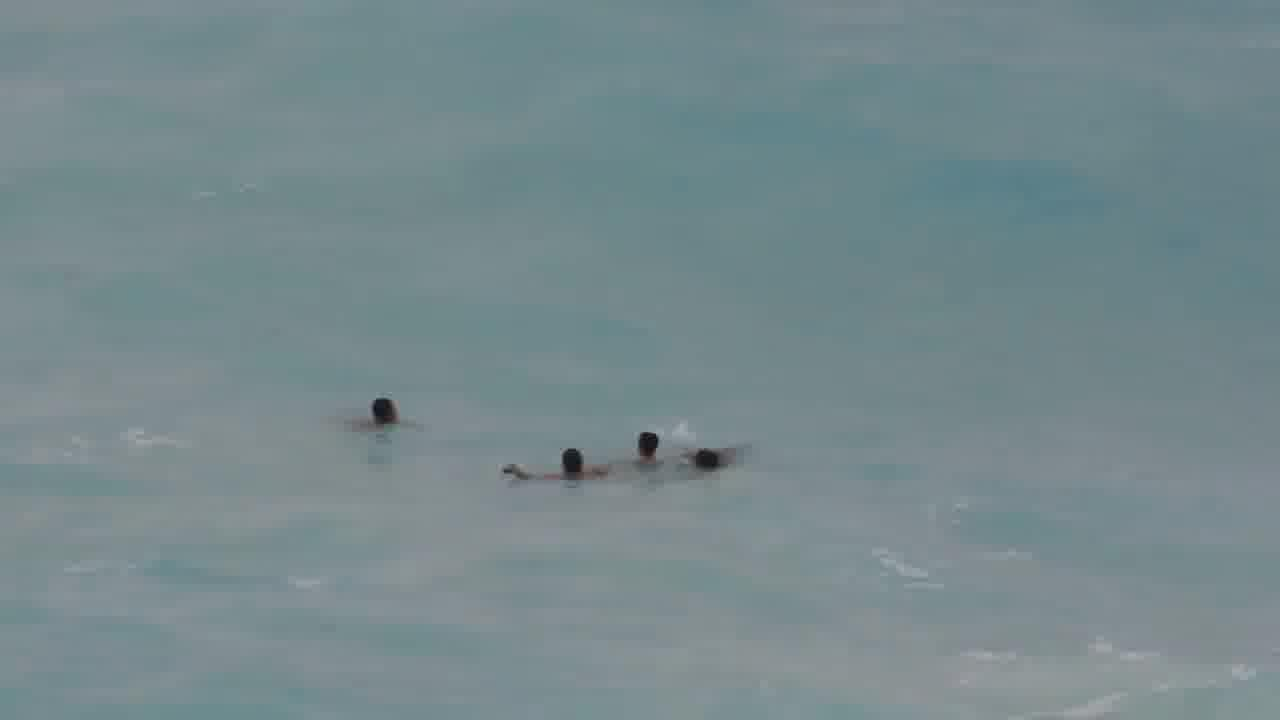human: (493, 441, 617, 482), (339, 394, 428, 434), (674, 440, 744, 476), (609, 424, 666, 461)
